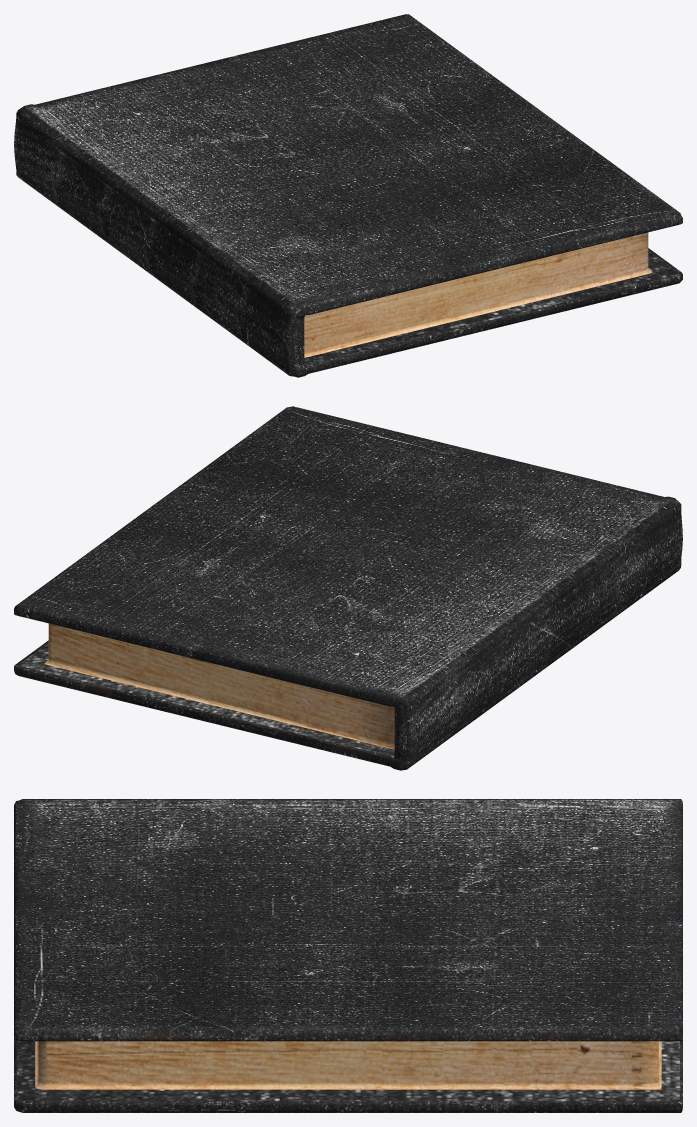
Rendered from Book2.fbx.
3 views of the same model, one above another, from view 1: azimuth 30°, elevation 25°; view 2: azimuth 150°, elevation 25°; view 3: azimuth 270°, elevation 25° (orthographic). The views are drawn at different scales.
Visible parts, largest first — view 1: Book_LOD0; view 2: Book_LOD0; view 3: Book_LOD0.
Part boxes in pixels (x1,y1,x2,y2): Book_LOD0: (14, 14, 682, 377); Book_LOD0: (14, 406, 682, 770); Book_LOD0: (14, 799, 682, 1112).
Size of what is drawn, in the model's own units: 77.79 by 13.46 by 92.57.
